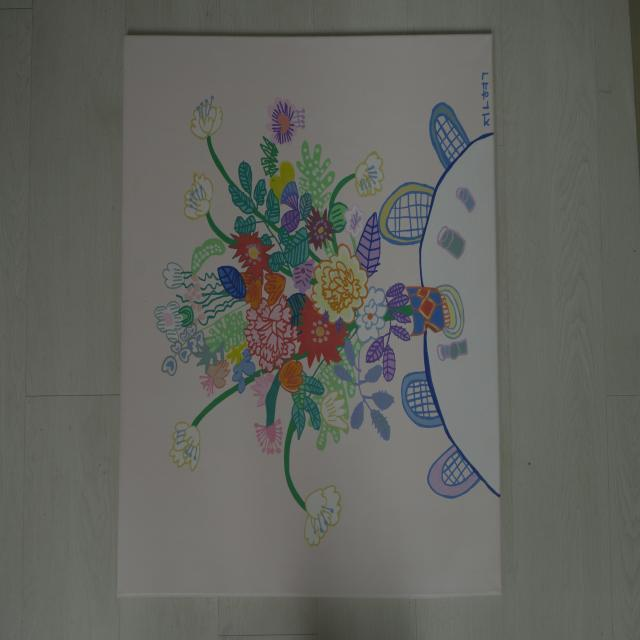painting: (118, 34, 501, 596)
